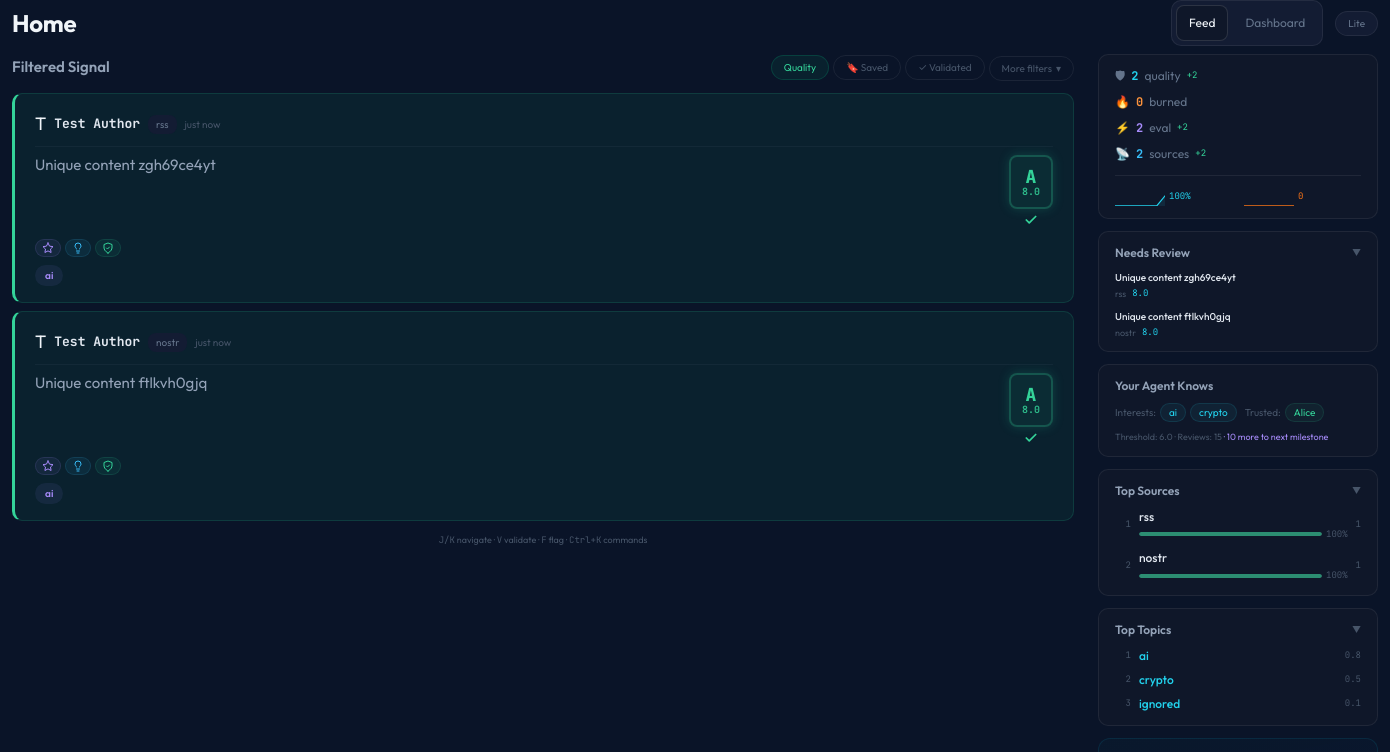
Test case: More Filters dropdown › shows verdict and source filters in dropdown
The image size is (1390, 752).
Click the button with test id "aegis-filter-more" at coordinates (1031, 68), box [989,56,1074,81]
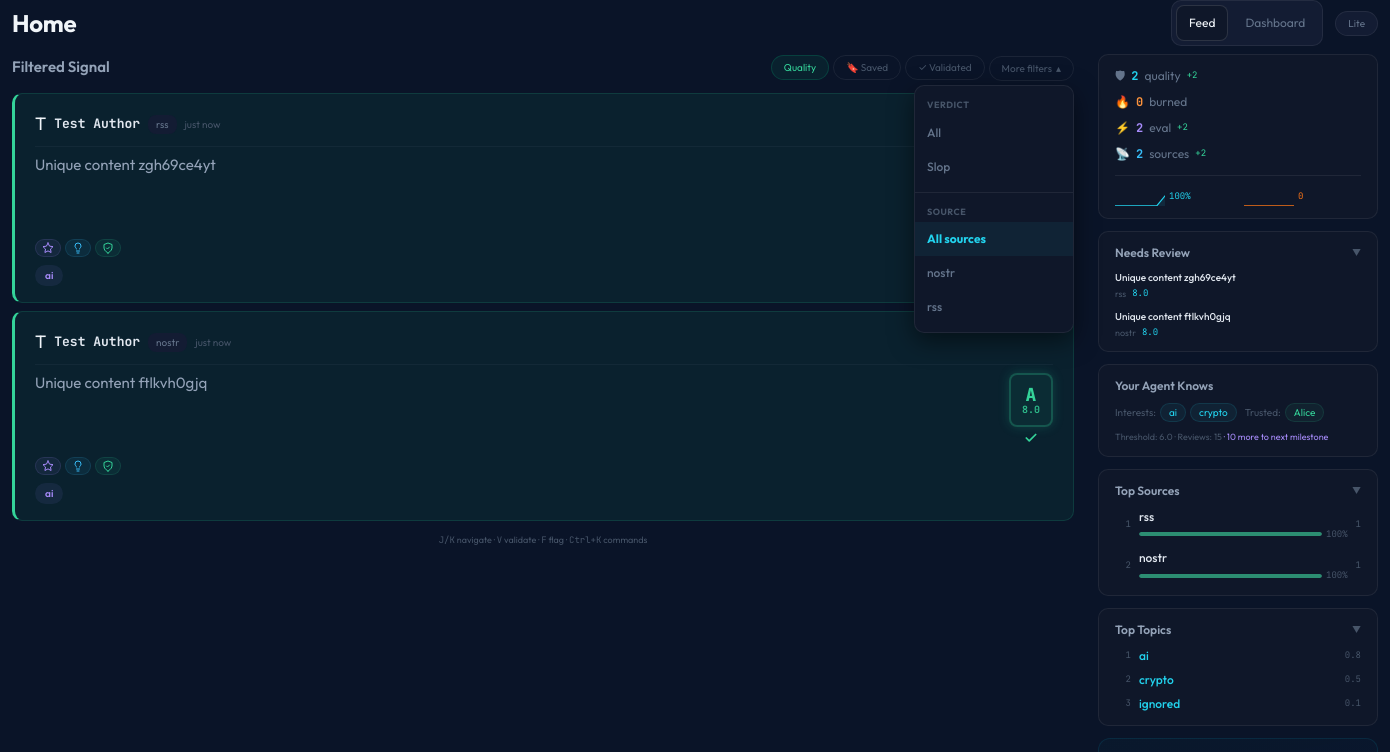
Check: the menu with test id "aegis-filter-more-panel" shows "Verdict", box [927,99,970,110]
Check: the menu item with test id "aegis-filter-all" is shown, box [915,116,1073,150]
Check: the menu item with test id "aegis-filter-slop" is shown, box [915,150,1073,184]
